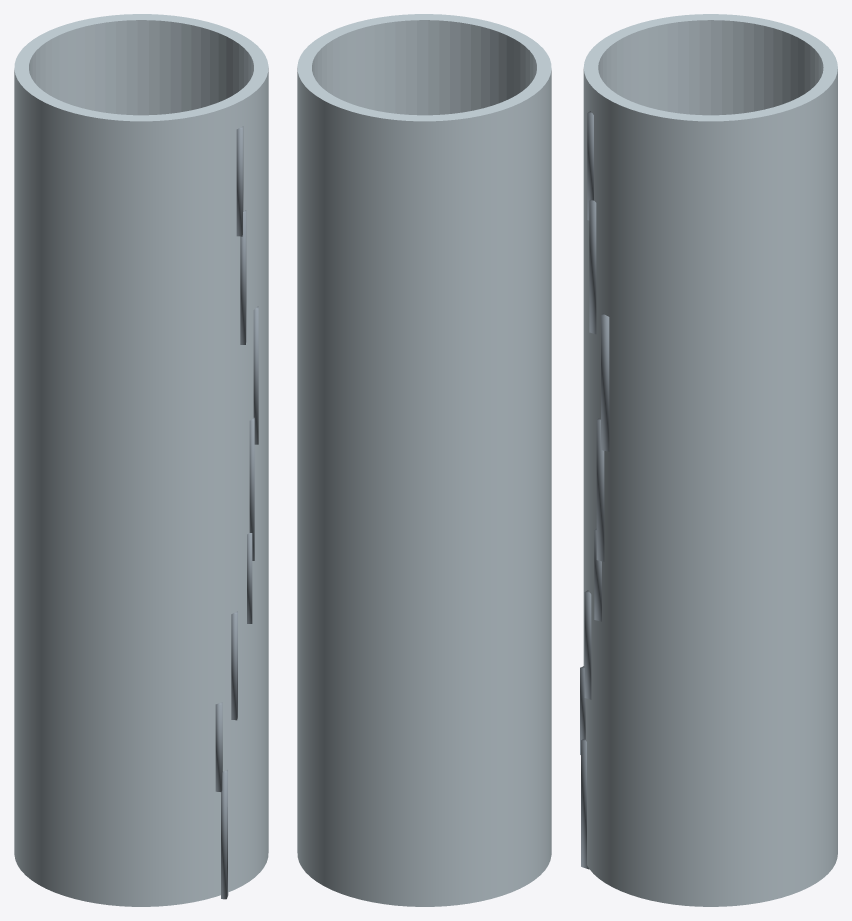
File: glass_dmg.glb
3 renders of one model, left to right at view 1: azimuth 30°, elevation 25°; view 2: azimuth 150°, elevation 25°; view 3: azimuth 270°, elevation 25°, orthographic.
Visible parts, largest first — view 1: Cylinder.002, Cube.015, Cube.009, Cube.008, Cube.010, Cube.011, Cube.013, Cube.014, Cube.012; view 2: Cylinder.002; view 3: Cylinder.002, Cube.010, Cube.011, Cube.009, Cube.013, Cube.015, Cube.008, Cube.012.
Part boxes in pixels (x1,y1,x2,y2): Cylinder.002: (14,14,268,906); Cube.015: (221,770,228,899); Cube.009: (240,210,246,344); Cube.008: (236,126,243,236); Cube.010: (253,306,258,444); Cube.011: (249,417,254,560); Cube.013: (231,611,237,720); Cube.014: (215,702,222,791); Cube.012: (247,533,252,623); Cylinder.002: (297,14,551,906); Cylinder.002: (583,14,837,906); Cube.010: (601,313,609,451); Cube.011: (596,418,604,561); Cube.009: (589,200,596,334); Cube.013: (584,590,591,699); Cube.015: (581,739,588,869); Cube.008: (587,111,593,220); Cube.012: (594,529,601,621).
Size of the model in its own units: 1.76 by 6.03 by 1.79.
